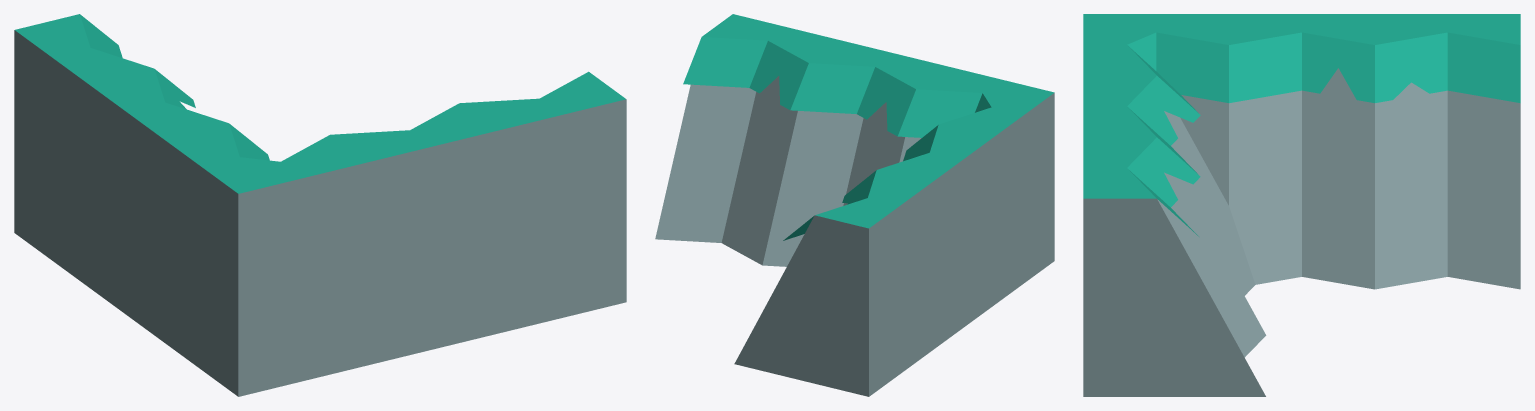
File: cliff_halfCornerInner_stone.glb
3 views of the same model, side by side, from view 1: azimuth 30°, elevation 25°; view 2: azimuth 150°, elevation 25°; view 3: azimuth 270°, elevation 25° (orthographic). The views are drawn at different scales.
Visible parts, largest first — view 1: cliff_halfCornerInner_stone; view 2: cliff_halfCornerInner_stone; view 3: cliff_halfCornerInner_stone.
Part boxes in pixels (bbox=[...]): cliff_halfCornerInner_stone: bbox=[14, 14, 626, 396]; cliff_halfCornerInner_stone: bbox=[655, 14, 1054, 396]; cliff_halfCornerInner_stone: bbox=[1083, 14, 1520, 396].
Size of the model in its own units: 1.2 by 0.6 by 1.2.
